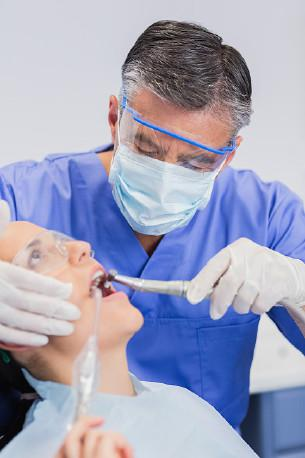NONE: (13, 229, 140, 335)
OK: (112, 119, 228, 235)
